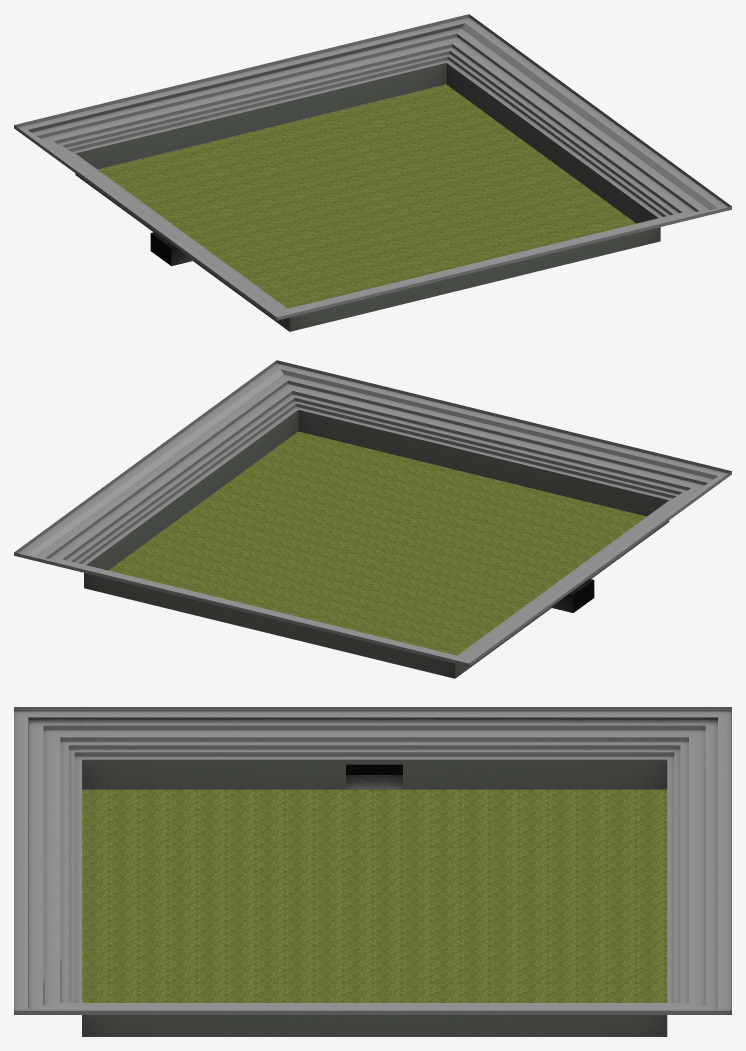
The model's file is stadium.glb.
3 renders of one model, top to bottom at view 1: azimuth 30°, elevation 25°; view 2: azimuth 150°, elevation 25°; view 3: azimuth 270°, elevation 25°, orthographic. The views are drawn at different scales.
Visible parts, largest first — view 1: Stadium; view 2: Stadium; view 3: Stadium.
Part boxes in pixels (<box>): Stadium: <box>14,14,731,331</box>; Stadium: <box>14,360,731,678</box>; Stadium: <box>14,707,731,1036</box>.
Bounding box in the file's own units: 73.6 × 6.47 × 73.6.
4 materials, 3 textured.
